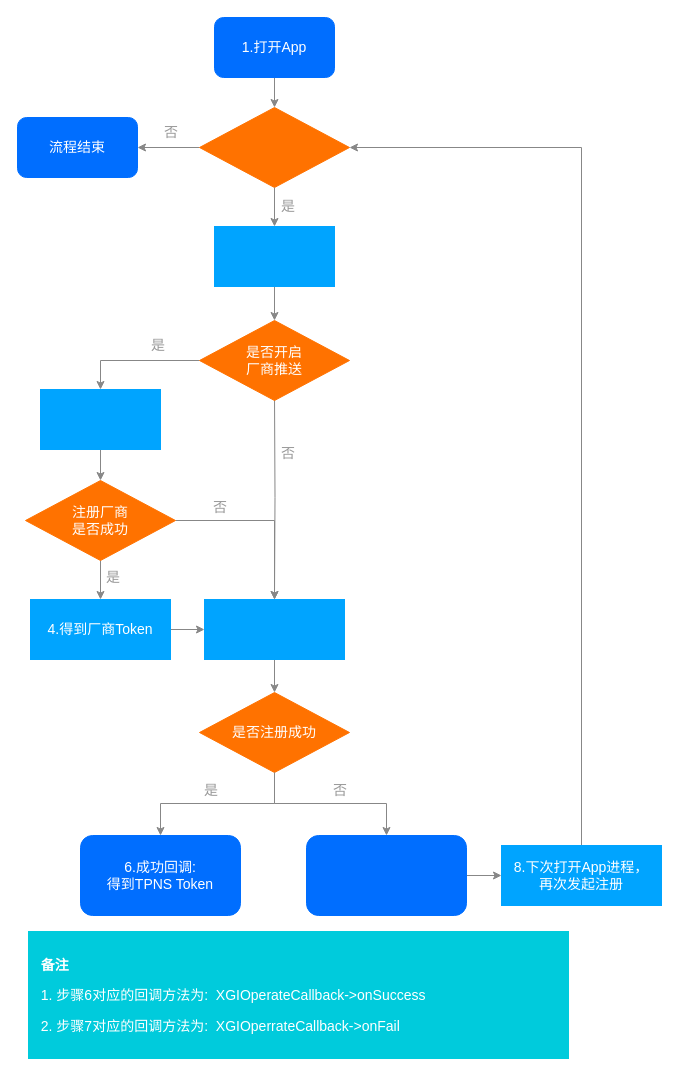
The diagram is 679 pixels wide and 1076 high, and some of its shapes have lost their labels. The shapes that lost their labels are listed below. From the top down, each one's centre as x and y in pixels, then its label:
the point at 274,147: 需要TPNS Push功能
the point at 274,256: 2.调用 registerPush
the point at 100,419: 3 向厂商请求 Token
the point at 274,629: 5.注册设备，获取TPNS Token
the point at 386,875: 7.失败回调: 得到错误码 和error对象
